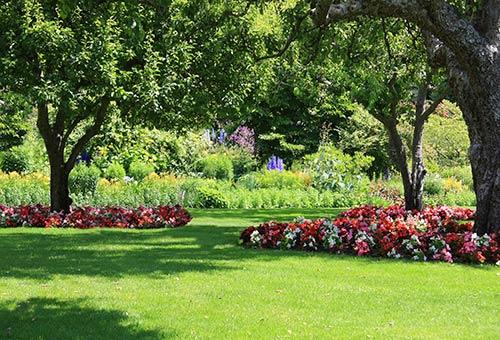grass: (2, 229, 499, 337)
tree: (430, 4, 497, 232), (36, 102, 97, 214), (379, 103, 429, 209)
